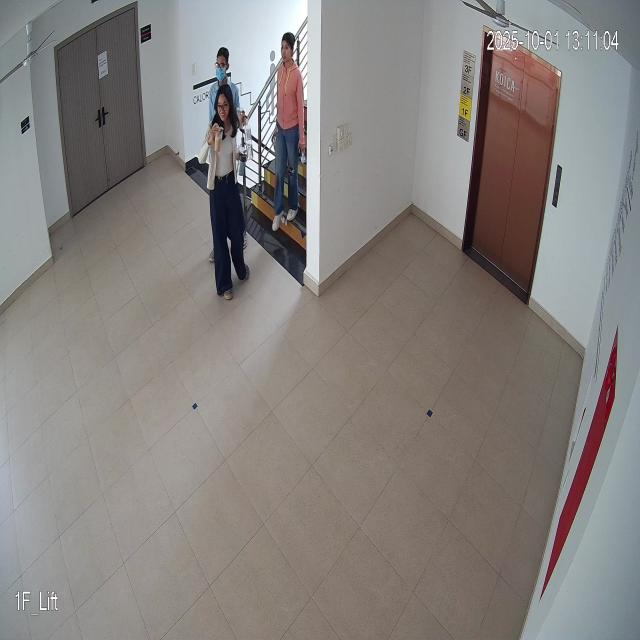face: (213, 81, 234, 129), (278, 29, 296, 68)
